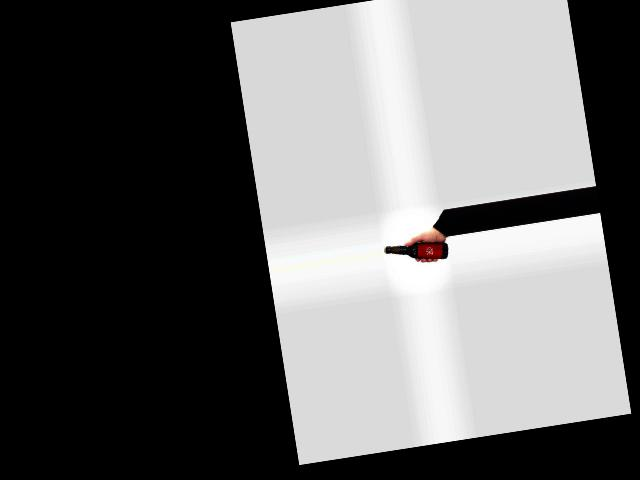beer: (383, 236, 449, 268)
